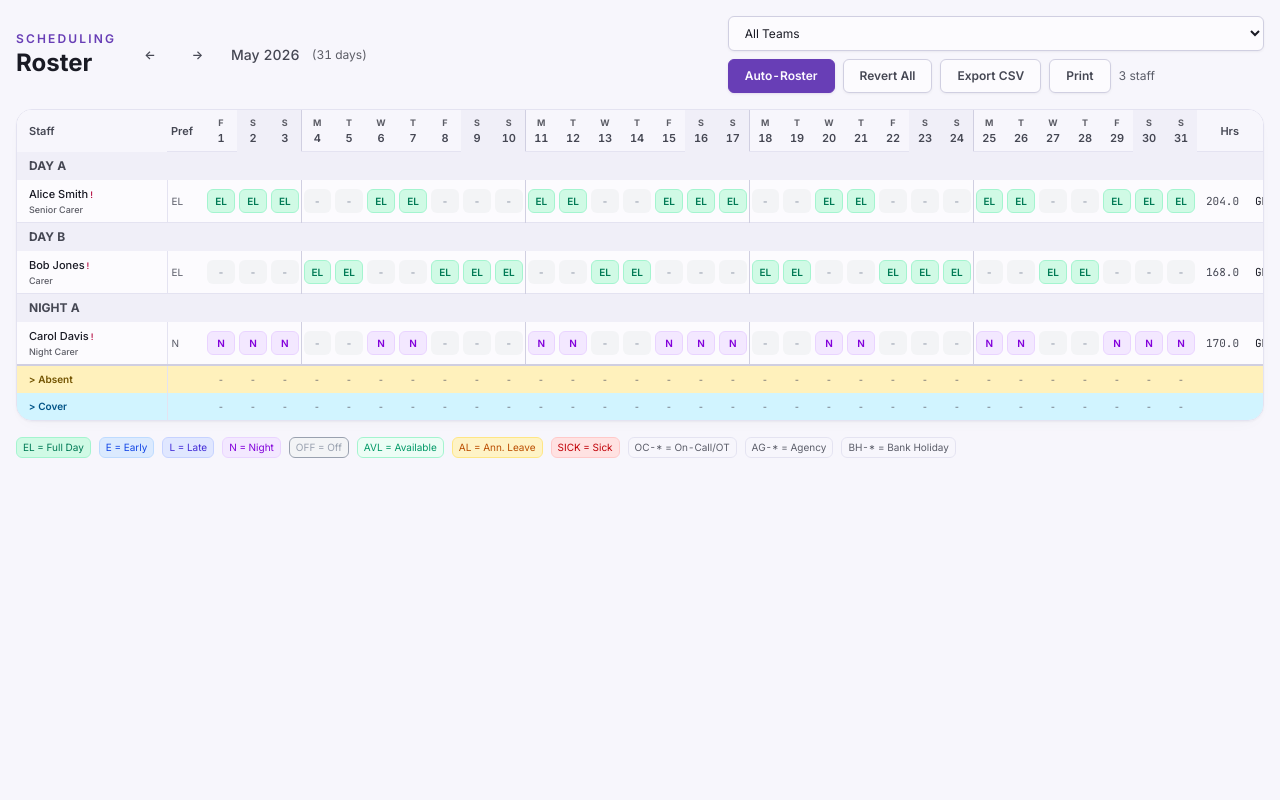
Test: RotationGrid › revert-all failure keeps the roster mounted and shows error inline
This screenshot has width=1280, height=800.
Click the button "Revert All" at (888, 76), box [843,59,932,93]
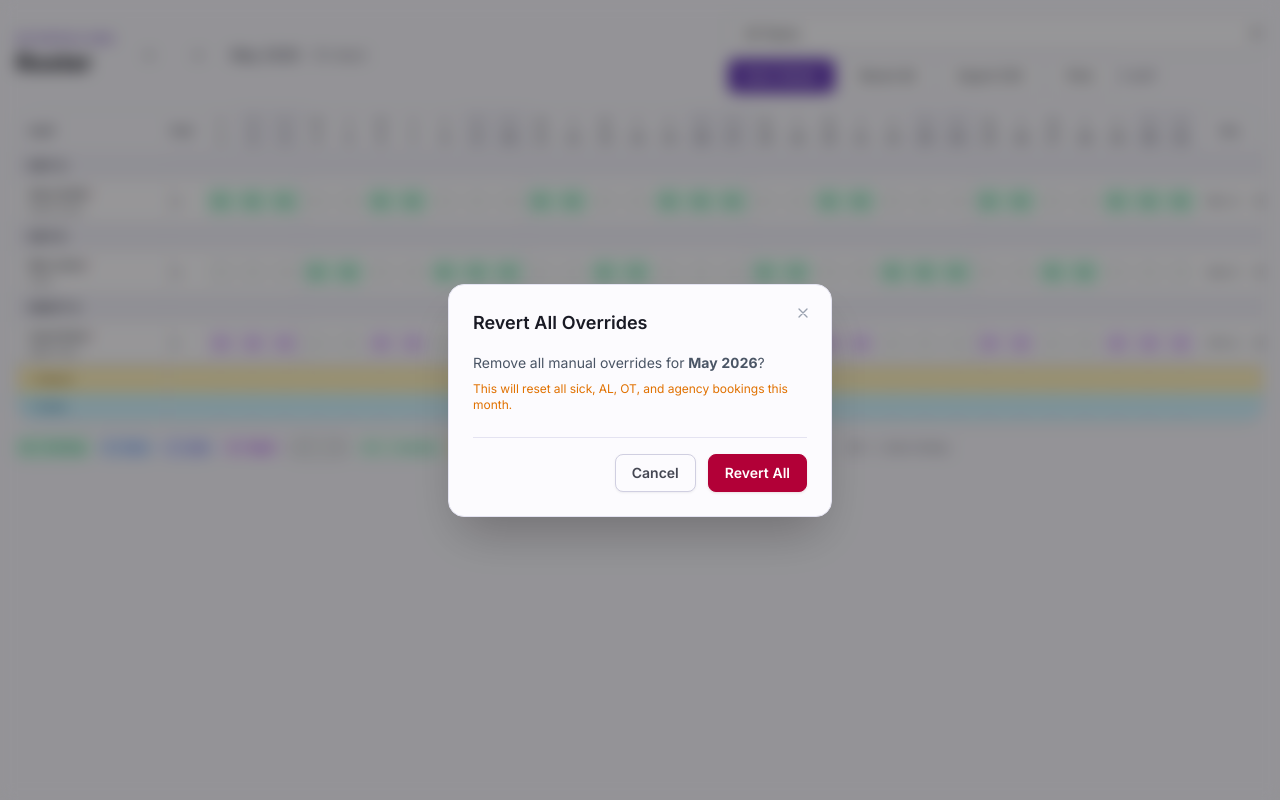
Click the button "Revert All" at (757, 472), box [708,454,807,492]
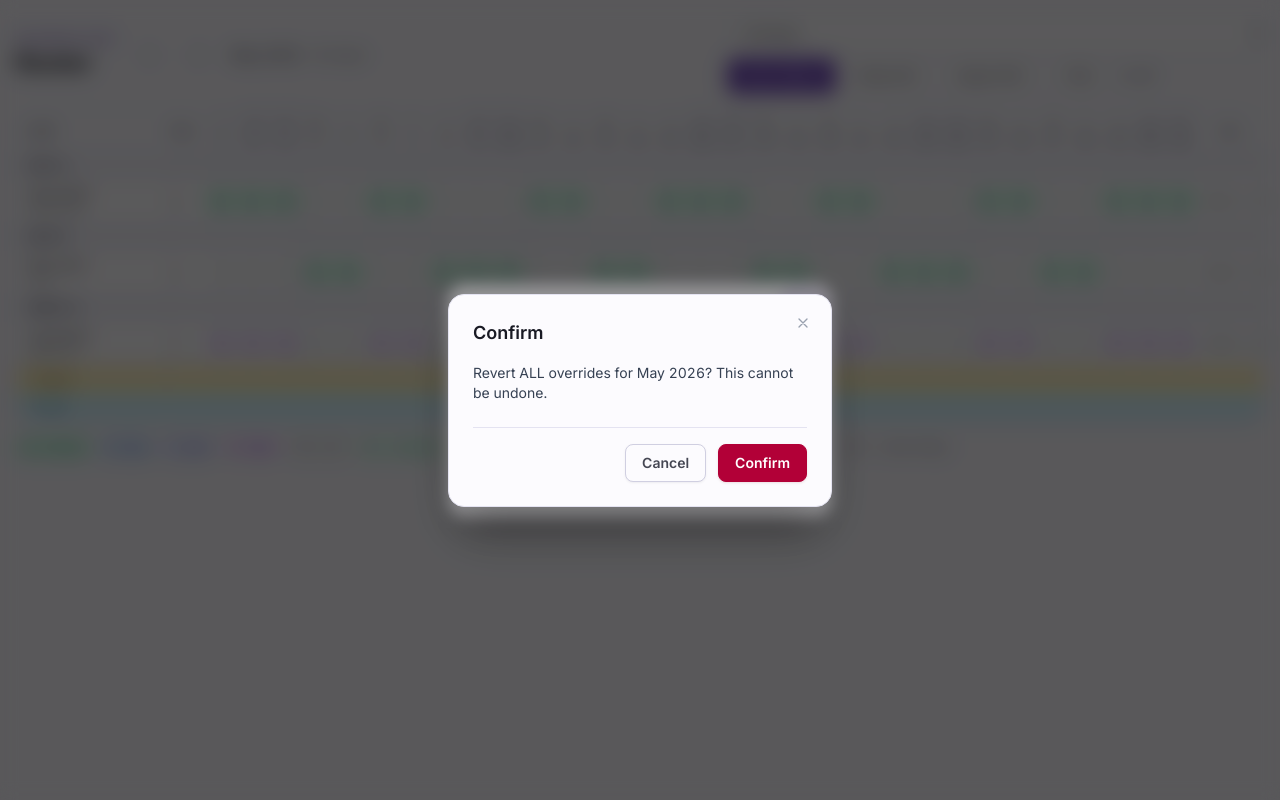
Click the button "Confirm" at (763, 462), box [718,444,807,482]
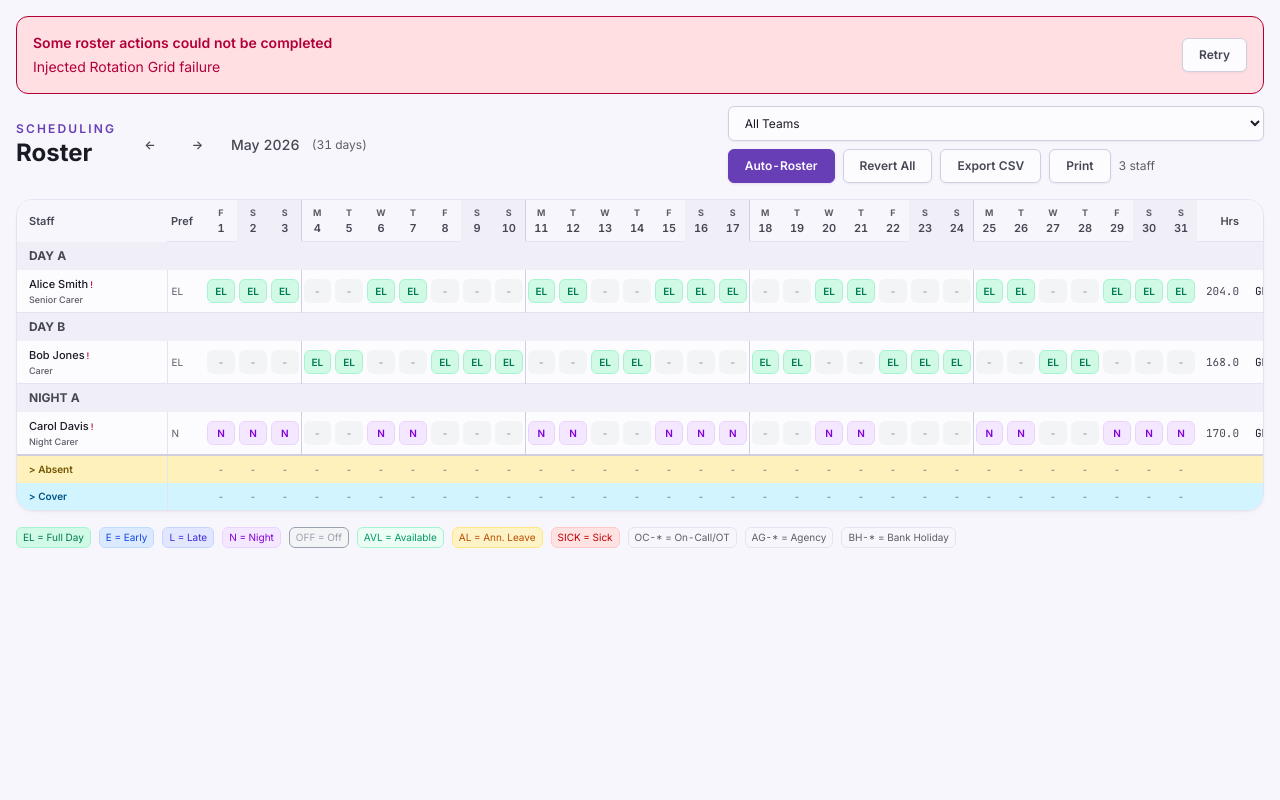
Expected: the button "Auto-Roster" is shown, [728,149,834,183]
Now the text "Some roster actions could not be completed" is shown, box [33,33,332,53]
Now the text "Injected Rotation Grid failure" is shown, box [33,58,220,75]
